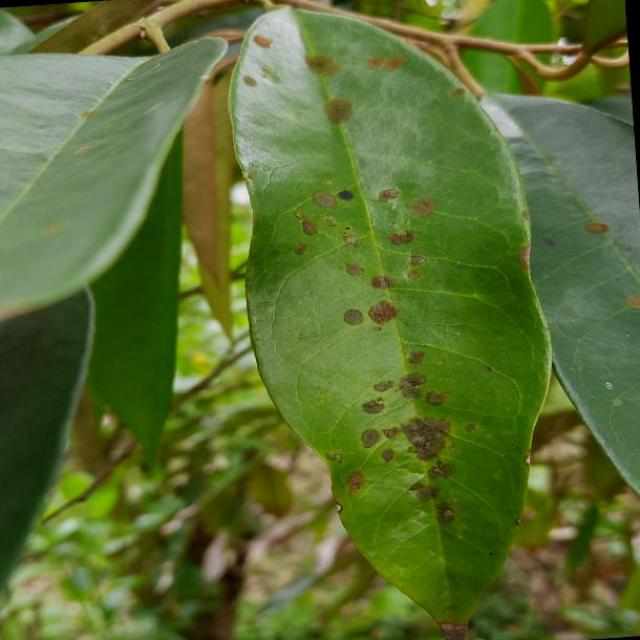Algal Leaf Spot: (213, 0, 575, 640)
